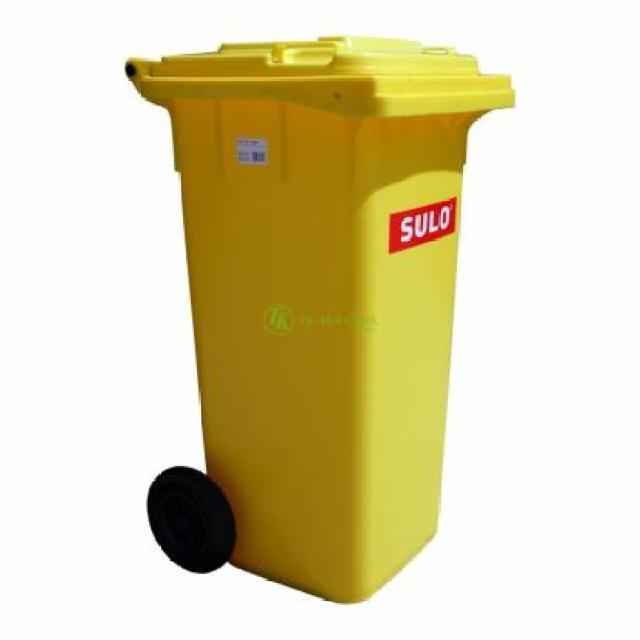garbage container: (116, 28, 544, 616)
